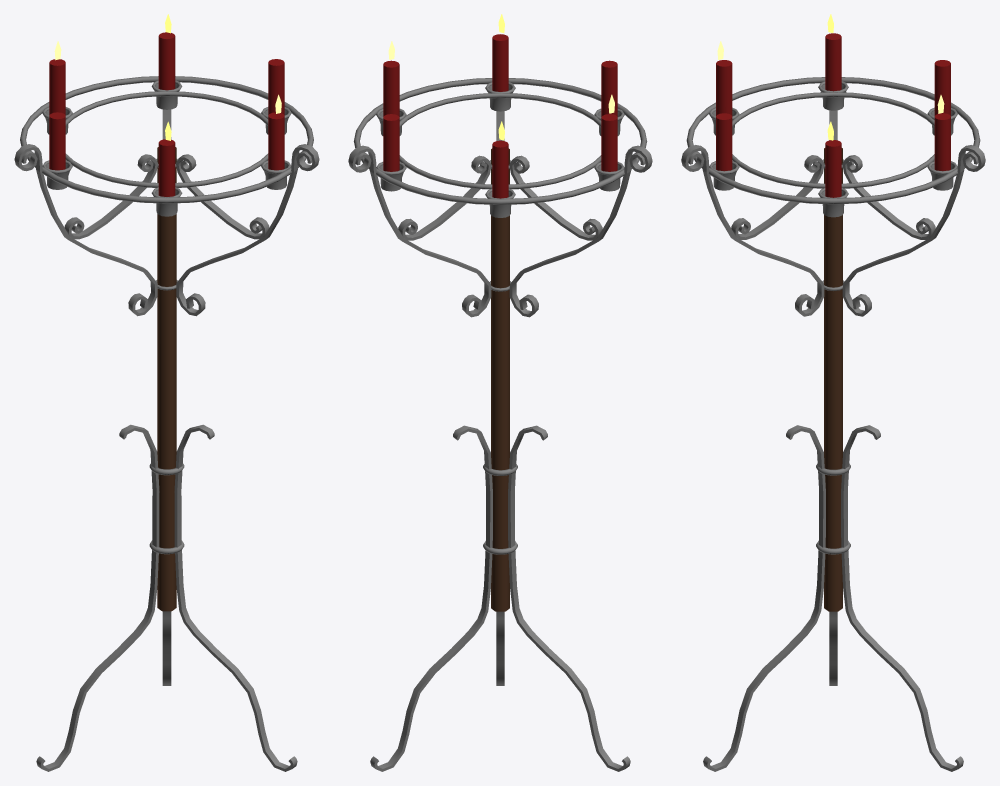
The model's file is Floor_Candle_Holder.fbx.
3 views of the same model, side by side, from view 1: azimuth 30°, elevation 25°; view 2: azimuth 150°, elevation 25°; view 3: azimuth 270°, elevation 25° (orthographic).
Visible parts, largest first — view 1: Floor_Candle_Holder_LOD0; view 2: Floor_Candle_Holder_LOD0; view 3: Floor_Candle_Holder_LOD0.
Part boxes in pixels (x1,y1,x2,y2): Floor_Candle_Holder_LOD0: (14,14,319,771); Floor_Candle_Holder_LOD0: (348,14,652,771); Floor_Candle_Holder_LOD0: (681,14,985,771).
Size of what is drawn, in the model's own units: 75.81 by 176 by 72.09.
